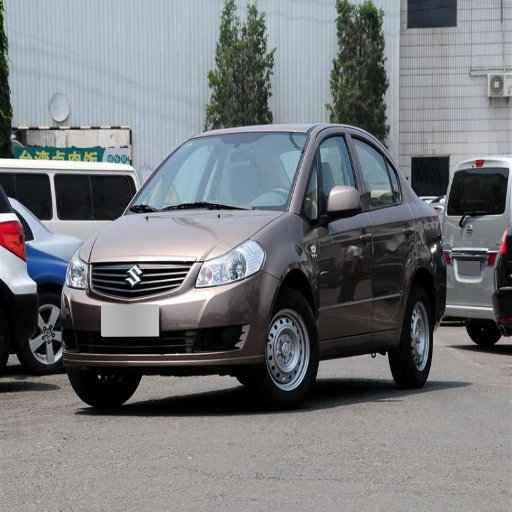front_bumper: (40, 260, 277, 369)
front_glass: (127, 132, 309, 213)
front_left_door: (300, 129, 371, 345)
trunk: (427, 220, 474, 312)
